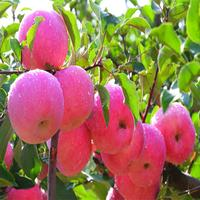apple: (14, 11, 77, 77), (9, 72, 66, 144), (49, 64, 101, 133), (148, 103, 200, 166), (89, 77, 128, 137), (50, 127, 98, 173), (98, 123, 136, 177), (136, 122, 167, 183)
